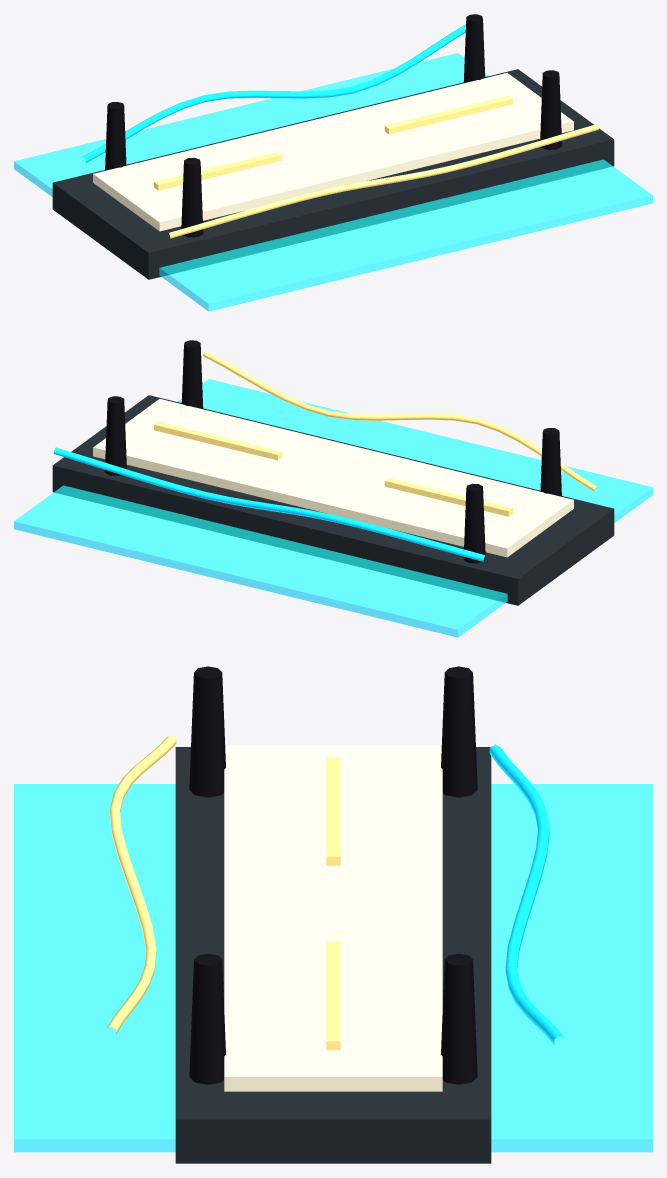
Rendered from road-water-causeway.glb.
3 views of the same model, one above another, from view 1: azimuth 30°, elevation 25°; view 2: azimuth 150°, elevation 25°; view 3: azimuth 270°, elevation 25° (orthographic). The views are drawn at different scales.
Parts seen in each view (by area): view 1: causeway-road-core, water-plane-right, causeway-road-slab, water-plane-left, shore-cable-left, shore-cable-right, right-bollard-a, right-bollard-b, causeway-lane-line-b, left-bollard-b, left-bollard-a, causeway-lane-line-a; view 2: causeway-road-core, water-plane-left, causeway-road-slab, water-plane-right, shore-cable-left, shore-cable-right, left-bollard-a, left-bollard-b, causeway-lane-line-b, right-bollard-b, right-bollard-a, causeway-lane-line-a; view 3: causeway-road-core, water-plane-right, water-plane-left, causeway-road-slab, shore-cable-left, left-bollard-a, right-bollard-a, left-bollard-b, right-bollard-b, shore-cable-right, causeway-lane-line-a, causeway-lane-line-b.
Part boxes in pixels (<box>): causeway-road-core: <box>93,73,573,231</box>; water-plane-right: <box>159,159,652,311</box>; causeway-road-slab: <box>52,69,614,279</box>; water-plane-left: <box>14,53,488,196</box>; shore-cable-left: <box>81,24,465,162</box>; shore-cable-right: <box>169,124,598,238</box>; right-bollard-a: <box>181,157,203,237</box>; right-bollard-b: <box>540,70,562,149</box>; causeway-lane-line-b: <box>384,95,512,134</box>; left-bollard-b: <box>463,14,485,83</box>; left-bollard-a: <box>105,102,126,170</box>; causeway-lane-line-a: <box>154,152,282,190</box>; causeway-road-core: <box>93,399,573,557</box>; water-plane-left: <box>14,485,507,637</box>; causeway-road-slab: <box>52,395,614,605</box>; water-plane-right: <box>178,379,652,522</box>; shore-cable-left: <box>53,447,484,561</box>; shore-cable-right: <box>203,351,597,491</box>; left-bollard-a: <box>463,483,485,563</box>; left-bollard-b: <box>104,396,126,475</box>; causeway-lane-line-b: <box>154,421,282,460</box>; right-bollard-b: <box>181,340,203,409</box>; right-bollard-a: <box>540,428,561,496</box>; causeway-lane-line-a: <box>384,478,512,516</box>; causeway-road-core: <box>224,745,442,1091</box>; water-plane-right: <box>14,784,175,1152</box>; water-plane-left: <box>491,784,652,1152</box>; causeway-road-slab: <box>175,747,491,1163</box>; shore-cable-left: <box>489,744,564,1045</box>; left-bollard-a: <box>441,666,477,797</box>; right-bollard-a: <box>189,666,225,797</box>; left-bollard-b: <box>441,953,477,1084</box>; right-bollard-b: <box>189,953,225,1084</box>; shore-cable-right: <box>106,735,176,1033</box>; causeway-lane-line-a: <box>326,757,340,865</box>; causeway-lane-line-b: <box>326,942,340,1050</box>.
Bounding box in the file's own units: 2.18 × 0.44 × 1.58.
